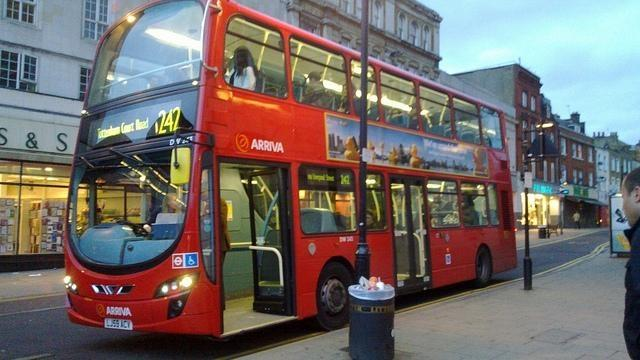bus: (67, 0, 518, 341)
